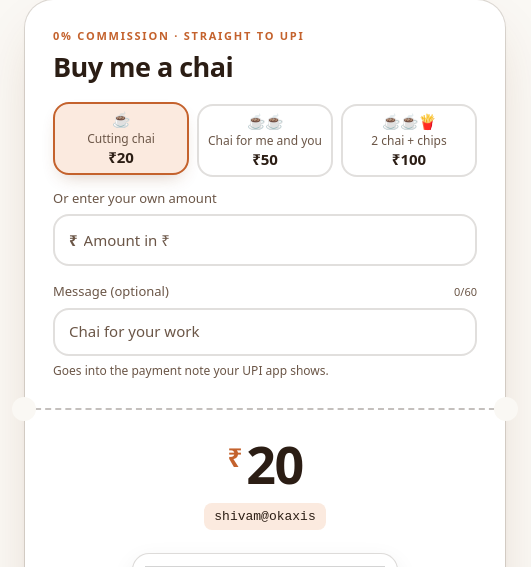
PaymentCard — amount selection (P0.3) › ignores non-numeric input rather than rejecting the keystroke
In the field labelled "Or enter your own amount": (272, 240) [84,216,461,264], type "₹1,500"
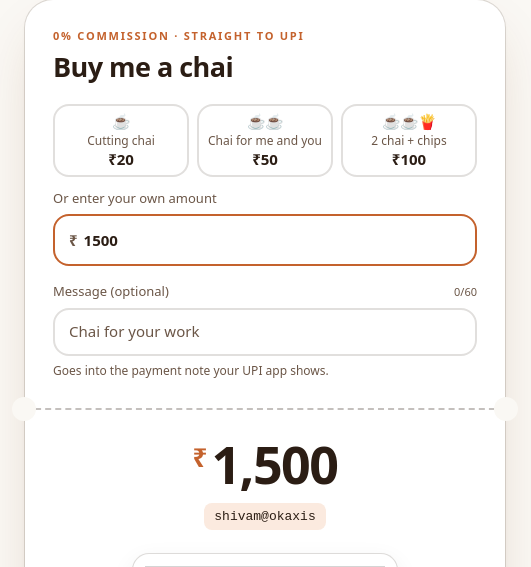
Now the field labelled "Or enter your own amount" holds "1500", box [84,216,461,264]
